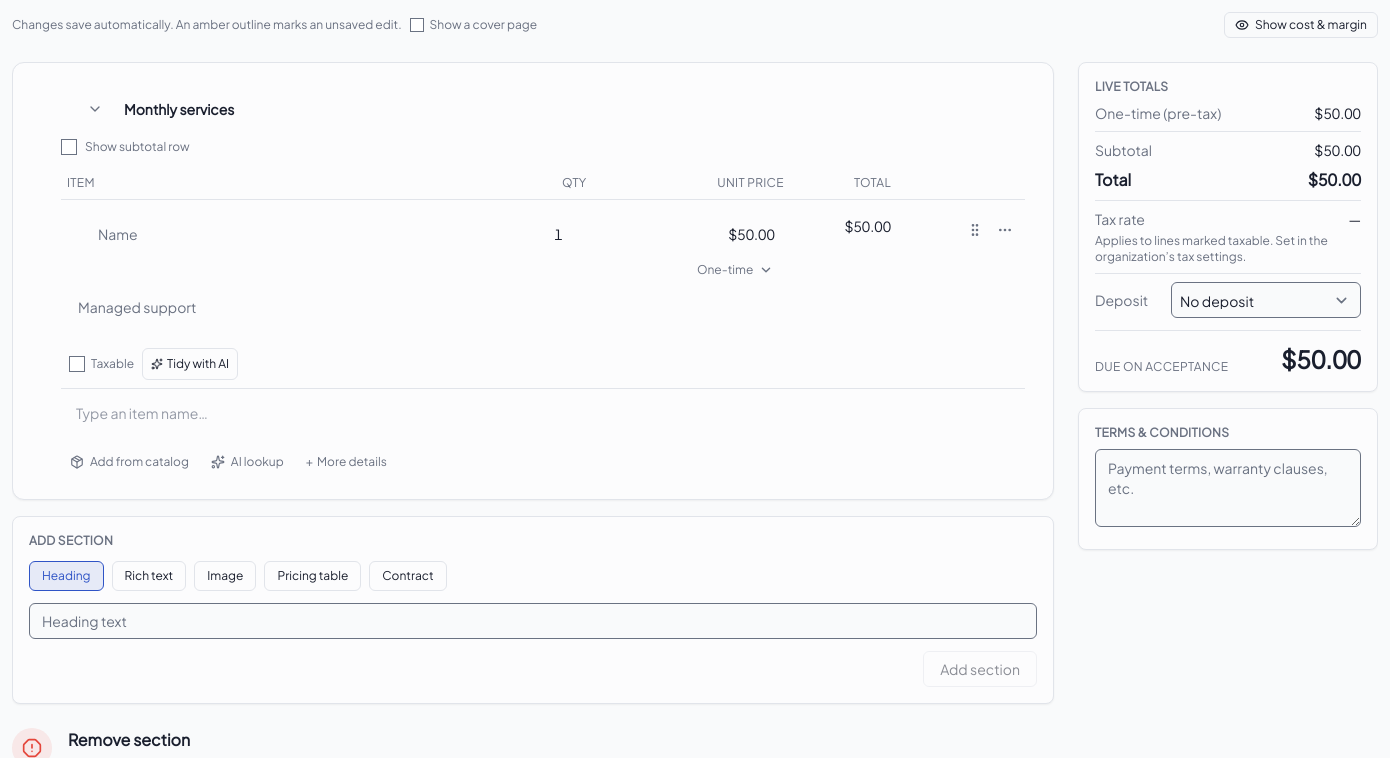
Test: QuoteEditor — actionable missing-cost reveal › re-clicking after scrolling away re-reveals the same line
Click the button with test id "quote-editor-toggle-internal".
click(1301, 25)  # box [1224,12,1378,38]
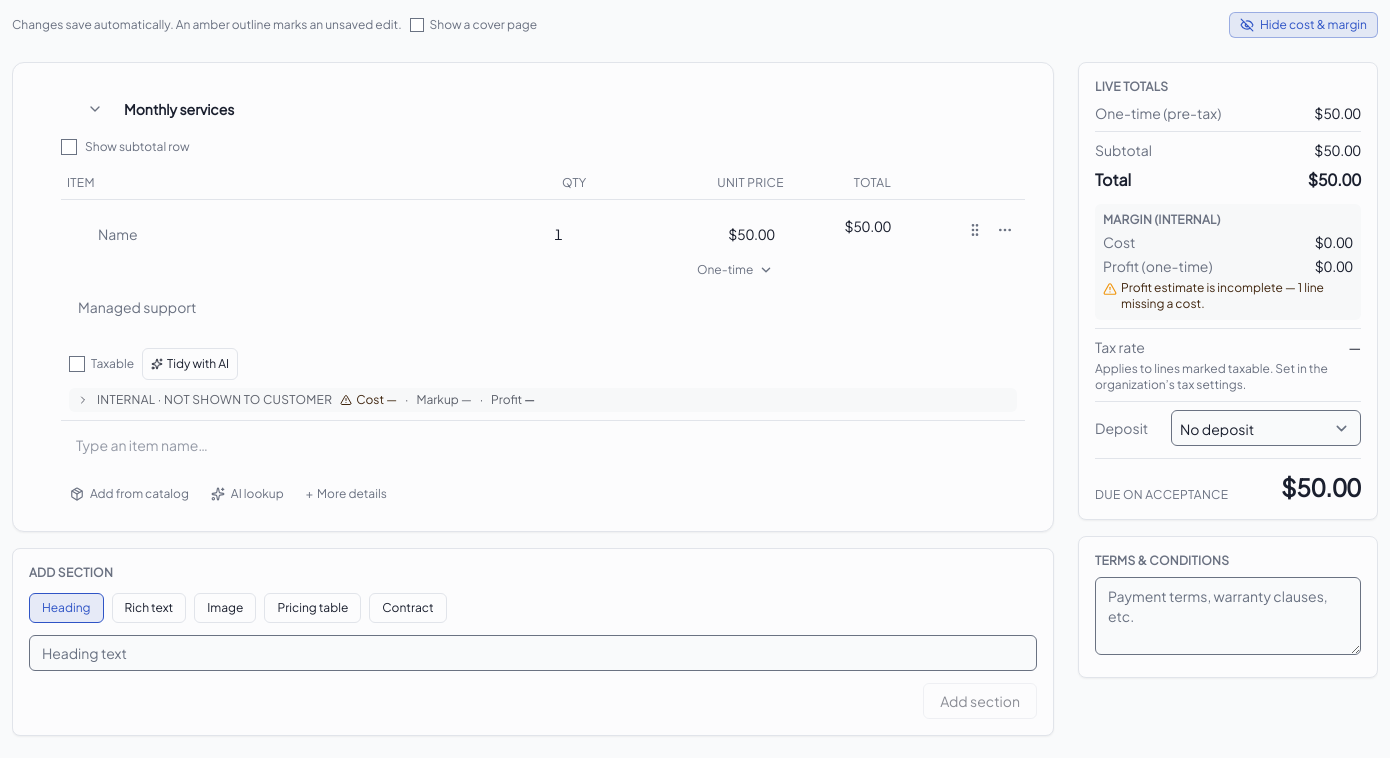
Click the button with test id "quote-margin-missing-cost".
click(1228, 296)  # box [1103,280,1353,312]
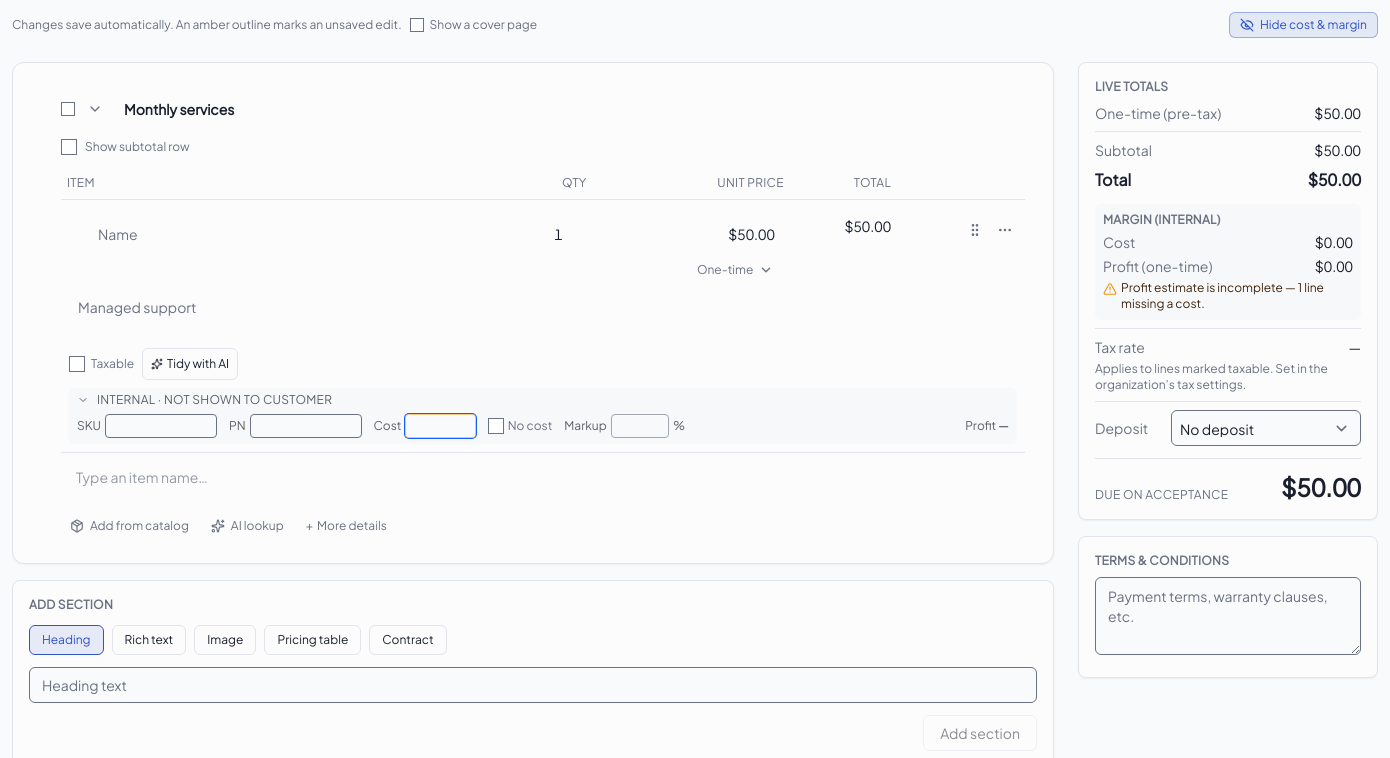
Manually blur + collapse, then click again — it re-expands and re-focuses.
Click the button with test id "quote-line-internal-toggle-line-1".
click(215, 400)  # box [77,392,1009,408]
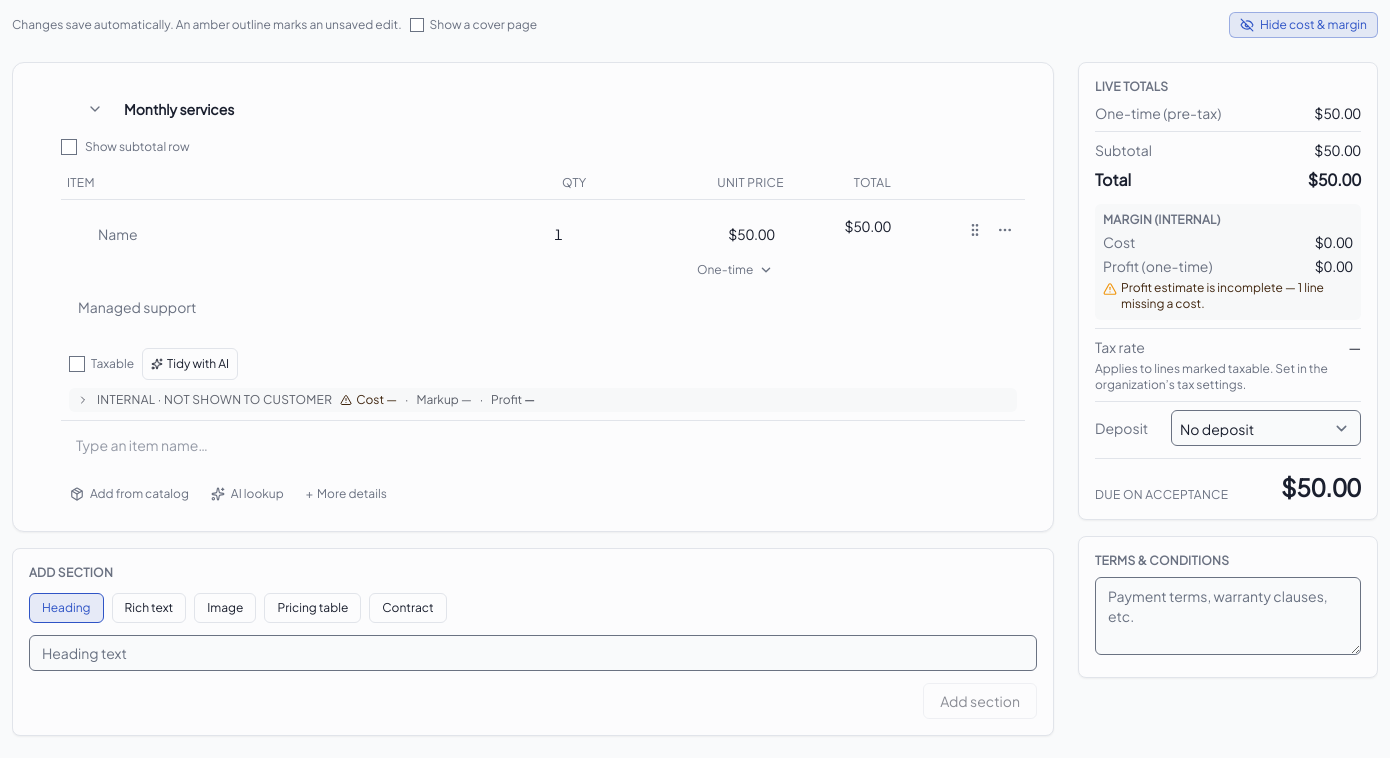
Result: the button with test id "quote-line-internal-toggle-line-1" is collapsed at [77,392,1009,408]
Click the button with test id "quote-margin-missing-cost".
click(1228, 296)  # box [1103,280,1353,312]
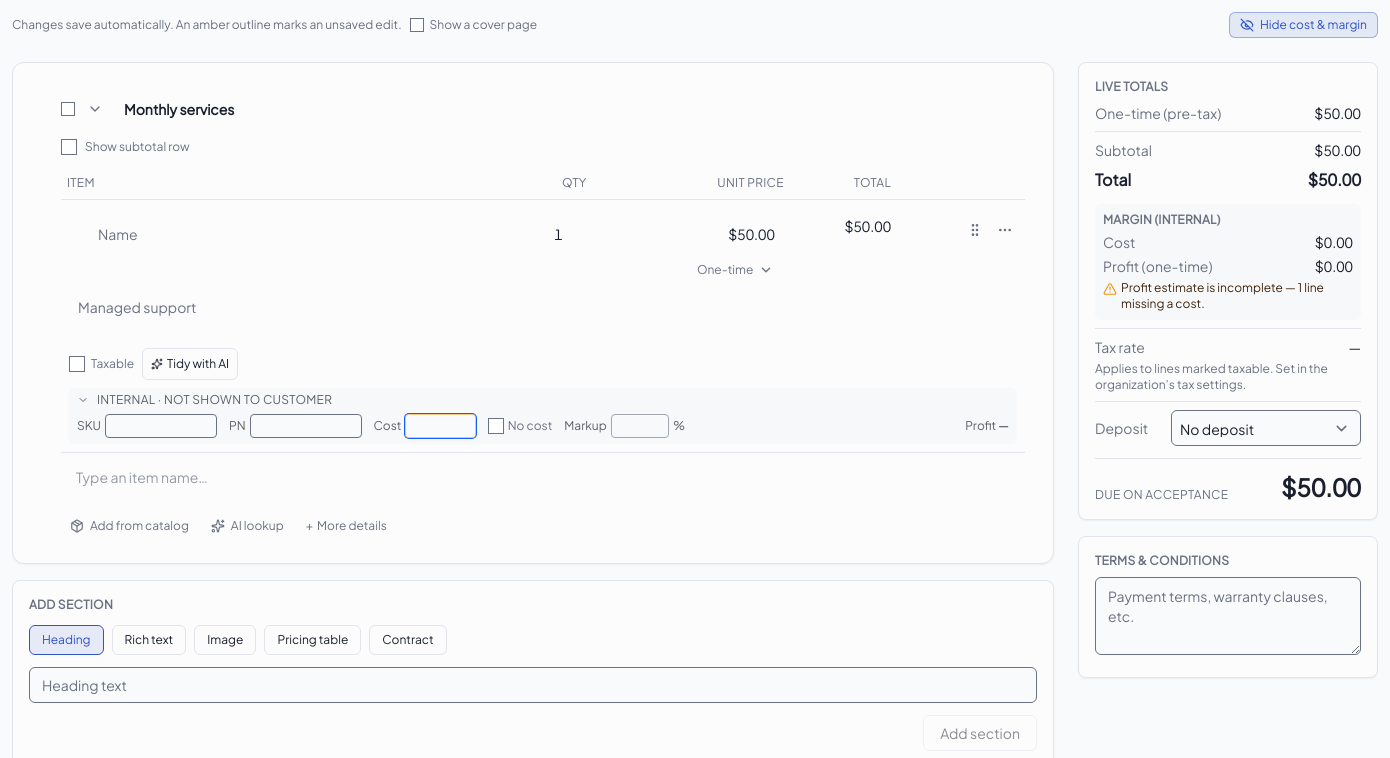
Result: the button with test id "quote-line-internal-toggle-line-1" is expanded at [77,392,1009,408]
